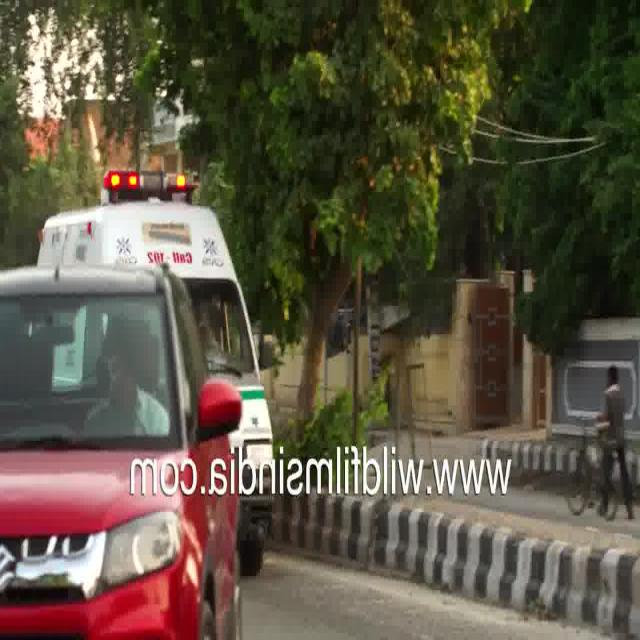ambulance: (98, 134, 305, 398)
